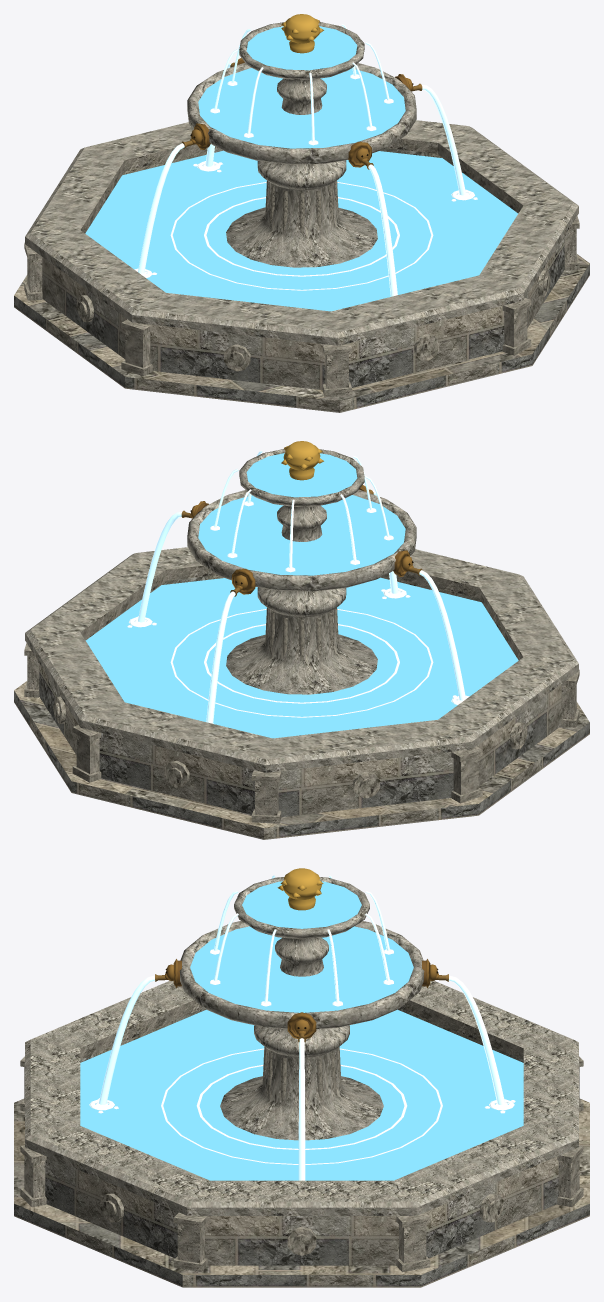
The model's file is fountain.glb.
The picture shows the model from 3 angles, top to bottom: view 1: azimuth 30°, elevation 25°; view 2: azimuth 150°, elevation 25°; view 3: azimuth 270°, elevation 25°; orthographic projection. The views are drawn at different scales.
Parts seen in each view (by area): view 1: prop; view 2: prop; view 3: prop.
Boxes of the visible parts, <box> form: prop: <box>14,14,589,412</box>; prop: <box>14,441,589,839</box>; prop: <box>14,868,589,1287</box>.
Size of what is drawn, in the model's own units: 2.88 by 1.62 by 2.88.
Materials: 8 (3 with a texture image).
